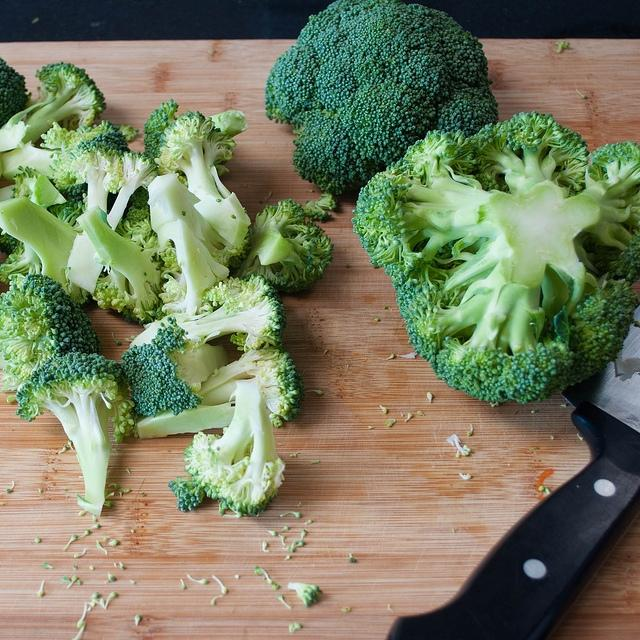broccoli: (352, 112, 640, 408), (264, 1, 498, 194), (15, 352, 135, 504), (168, 377, 286, 518), (67, 130, 159, 294), (154, 110, 252, 248), (1, 274, 102, 403), (119, 316, 229, 418), (76, 206, 164, 324), (148, 173, 254, 270), (0, 196, 90, 304), (2, 62, 108, 152), (234, 199, 334, 294), (175, 274, 288, 352), (198, 347, 304, 428), (156, 219, 230, 316), (143, 98, 248, 160), (0, 58, 38, 130), (11, 166, 68, 210), (40, 120, 61, 150)
